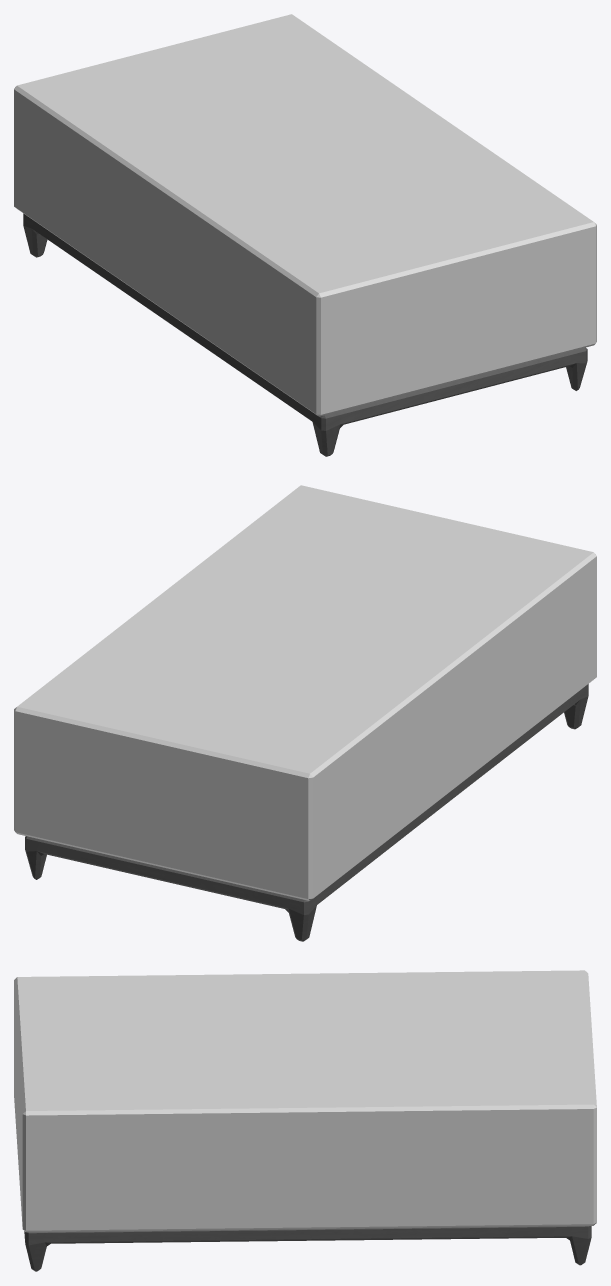
File: lowtable.fbx
The picture shows the model from 3 angles, top to bottom: view 1: azimuth 30°, elevation 25°; view 2: azimuth 150°, elevation 25°; view 3: azimuth 270°, elevation 25°; orthographic projection. The views are drawn at different scales.
Visible parts, largest first — view 1: safa_table; view 2: safa_table; view 3: safa_table.
Part boxes in pixels (box(x1,y1,x2,y2)): safa_table: box(14, 14, 596, 456); safa_table: box(14, 485, 596, 941); safa_table: box(14, 970, 596, 1271).
Bounding box in the file's own units: 87.2 × 47.26 × 150.
2 materials, 1 textured.
